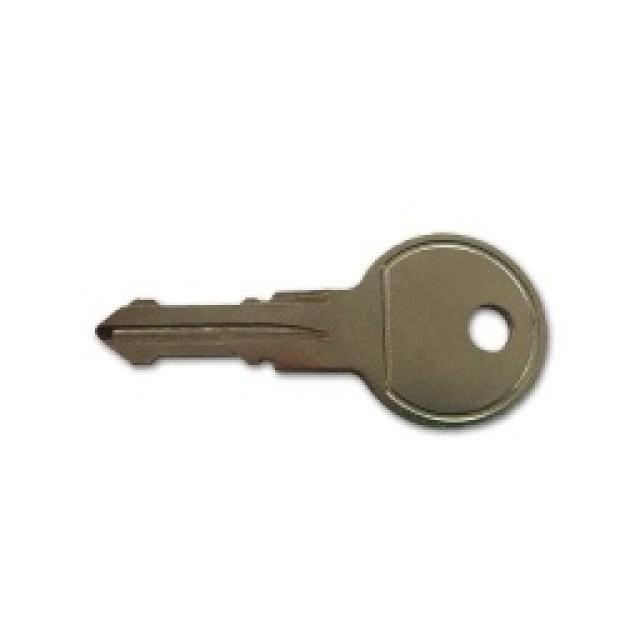anahtar: (90, 219, 560, 439)
